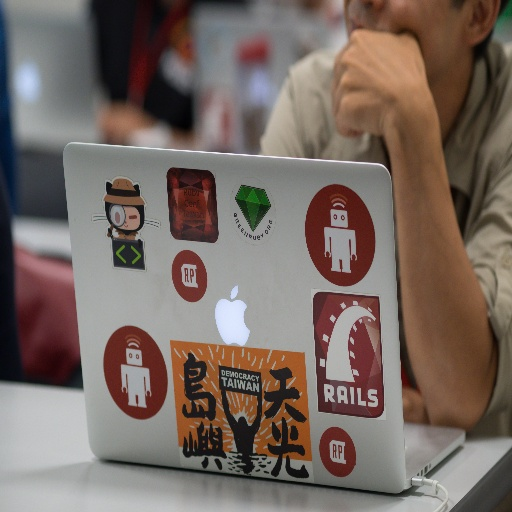hand: (324, 18, 458, 159), (96, 103, 159, 144), (256, 391, 262, 402), (221, 389, 225, 396)
